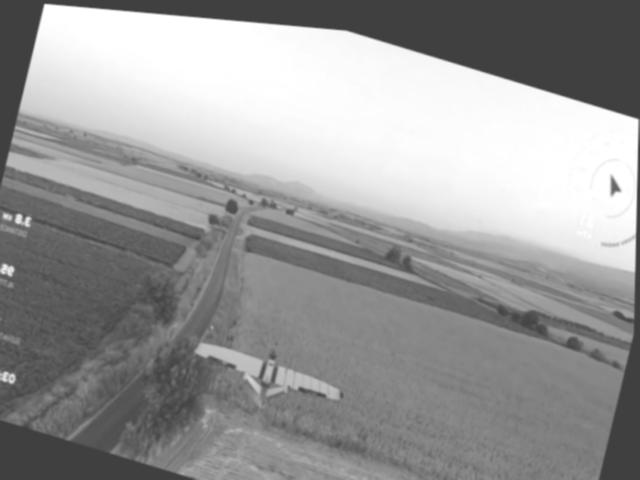hedef: (180, 312, 357, 436)
